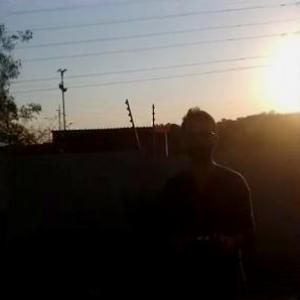follow: (159, 102, 263, 299)
